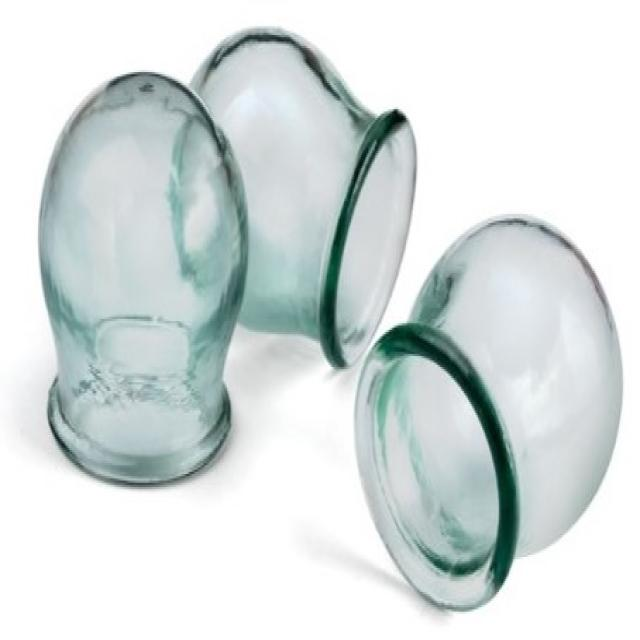electronic: (38, 29, 630, 619)
